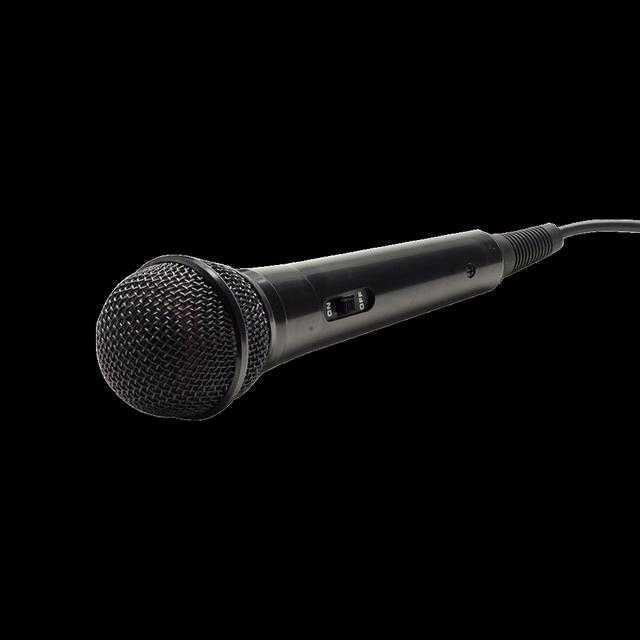microphone: (92, 216, 600, 441)
